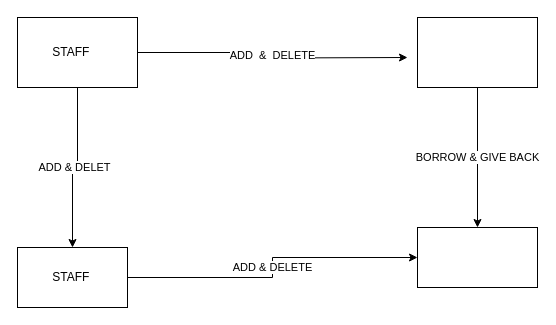
The diagram is 556 pixels wide and 325 high, and some of its shapes have lost their labels. The shapes that lost their labels are listed below. From the top down, each one's centre as x and y in pixels, then its label:
(477,52): USER
(477,257): BOOK
